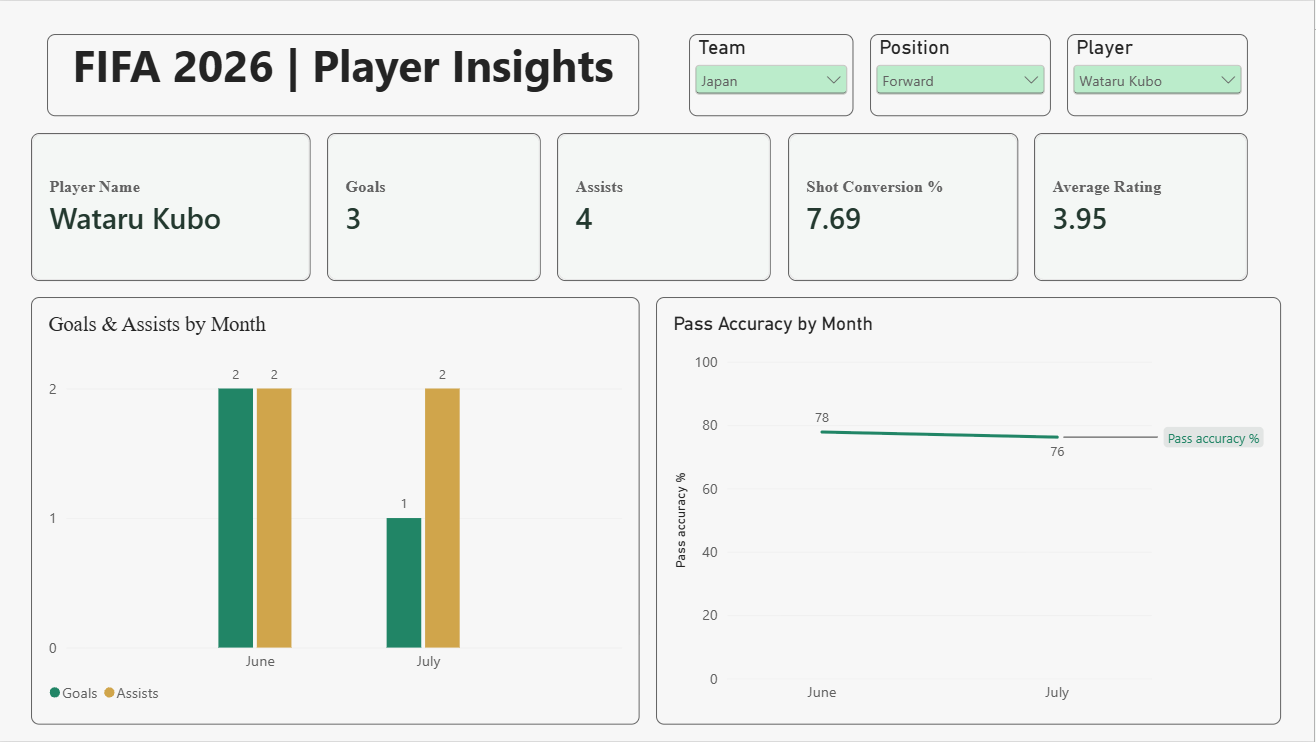

The page's visual inventory and layout, read from the dashboard file:
{"tool":"powerbi","page":{"name":"Player","canvas":[1280,720],"ordinal":1},"visuals":[{"type":"textbox","box":[48,32,576,80],"z":0},{"type":"slicer","fields":{"Values":["fifa_world_cup_2026_player_performance.team"]},"box":[672,32,160,80],"z":1000},{"type":"slicer","fields":{"Values":["fifa_world_cup_2026_player_performance.position"]},"box":[848,32,176,80],"z":2000},{"type":"clusteredColumnChart","title":"Goals & Assists by Month","fields":{"Category":["fifa_world_cup_2026_player_performance.match_date.Variation.Date Hierarchy.Month"],"Y":["Sum(fifa_world_cup_2026_player_performance.goals)","Sum(fifa_world_cup_2026_player_performance.assists)"]},"box":[32,288,592,416],"z":3000},{"type":"lineChart","title":"Pass Accuracy by Month","fields":{"Category":["fifa_world_cup_2026_player_performance.match_date.Variation.Date Hierarchy.Month"],"Y":["fifa_world_cup_2026_player_performance.Pass accuracy %"]},"box":[640,288,608,416],"z":4000},{"type":"slicer","fields":{"Values":["fifa_world_cup_2026_player_performance.player_name"]},"box":[1040,32,176,80],"z":5000},{"type":"cardVisual","fields":{"Data":["Min(fifa_world_cup_2026_player_performance.player_name)"]},"box":[32,128,272,144],"z":6000},{"type":"cardVisual","fields":{"Data":["Sum(fifa_world_cup_2026_player_performance.assists)"]},"box":[544,128,208,144],"z":7000},{"type":"cardVisual","fields":{"Data":["Sum(fifa_world_cup_2026_player_performance.goals)"]},"box":[320,128,208,144],"z":8000},{"type":"cardVisual","fields":{"Data":["fifa_world_cup_2026_player_performance.Shot Conversion %"]},"box":[768,128,224,144],"z":9000},{"type":"cardVisual","fields":{"Data":["fifa_world_cup_2026_player_performance.Average Rating"]},"box":[1008,128,208,144],"z":10000}]}

Visuals, with their boxes in screenshot pixels (x1, y1, x2, y2), scaled from the page's 1280x720 canvas onto the 1316x742 screenshot:
textbox: box=[49, 33, 642, 115]
slicer - fifa_world_cup_2026_player_performance.team: box=[691, 33, 855, 115]
slicer - fifa_world_cup_2026_player_performance.position: box=[872, 33, 1053, 115]
"Goals & Assists by Month" clusteredColumnChart: box=[33, 297, 642, 726]
"Pass Accuracy by Month" lineChart: box=[658, 297, 1283, 726]
slicer - fifa_world_cup_2026_player_performance.player_name: box=[1069, 33, 1250, 115]
cardVisual - Min(fifa_world_cup_2026_player_performance.player_name): box=[33, 132, 313, 280]
cardVisual - Sum(fifa_world_cup_2026_player_performance.assists): box=[559, 132, 773, 280]
cardVisual - Sum(fifa_world_cup_2026_player_performance.goals): box=[329, 132, 543, 280]
cardVisual - fifa_world_cup_2026_player_performance.Shot Conversion %: box=[790, 132, 1020, 280]
cardVisual - fifa_world_cup_2026_player_performance.Average Rating: box=[1036, 132, 1250, 280]
